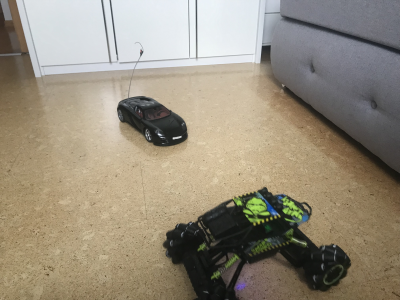remote control car: (162, 183, 353, 300)
